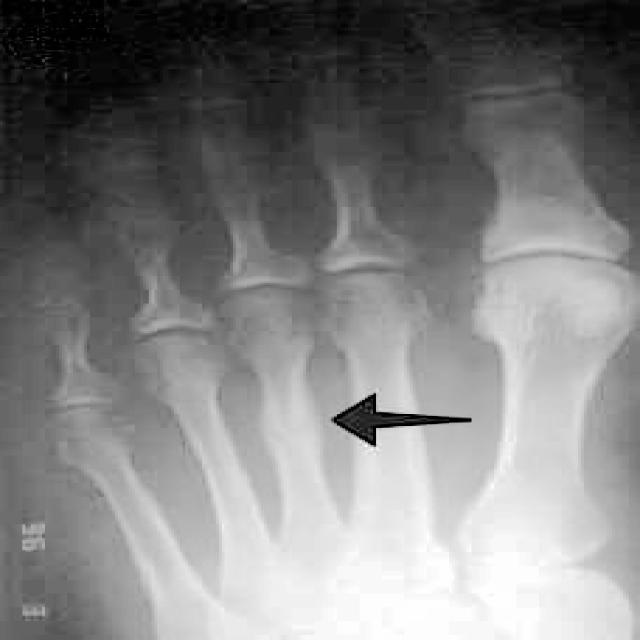HairLine Fracture: (258, 398, 324, 456)
